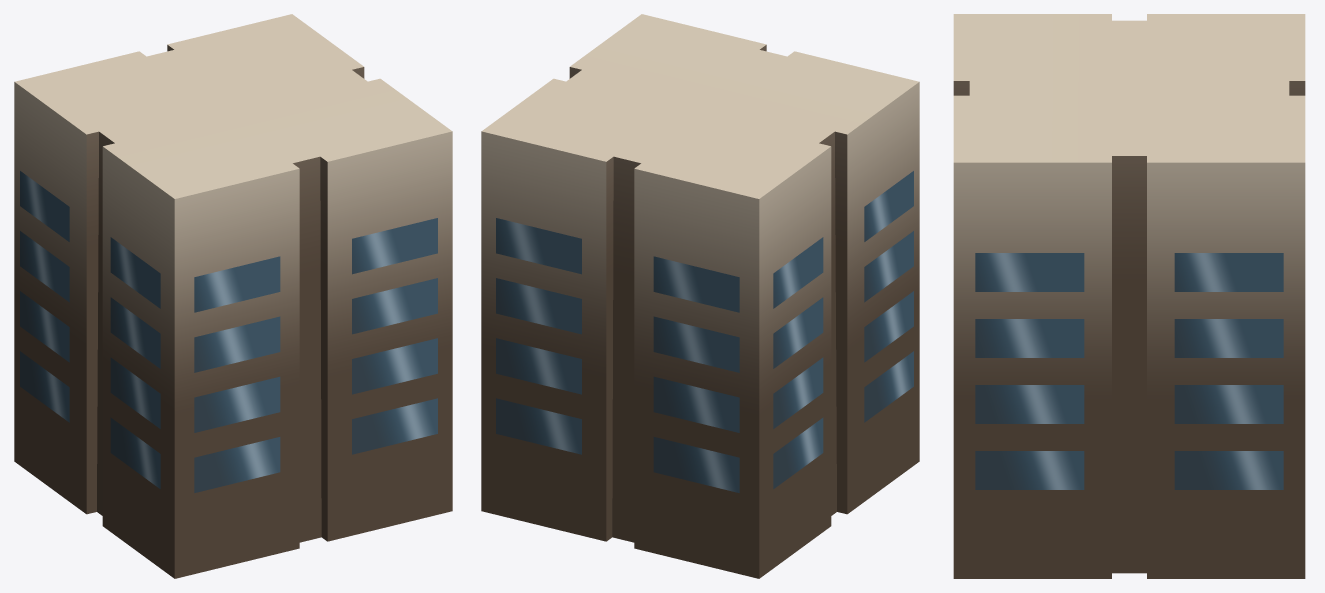
The model's file is apartmentshort.fbx.
3 views of the same model, side by side, from view 1: azimuth 30°, elevation 25°; view 2: azimuth 150°, elevation 25°; view 3: azimuth 270°, elevation 25° (orthographic). The views are drawn at different scales.
Visible parts, largest first — view 1: geo_apartmentshort; view 2: geo_apartmentshort; view 3: geo_apartmentshort.
Boxes of the visible parts, box(x1,y1,x2,y2) form: geo_apartmentshort: box(14, 14, 452, 578); geo_apartmentshort: box(481, 14, 919, 578); geo_apartmentshort: box(953, 14, 1305, 578).
Size of the model in its own units: 27.46 by 34.77 by 27.46.
